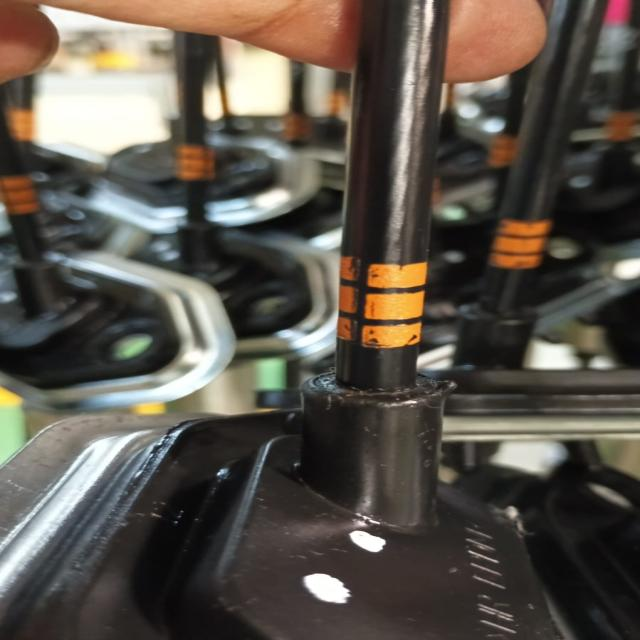orange: (340, 257, 418, 348), (498, 219, 546, 270)
